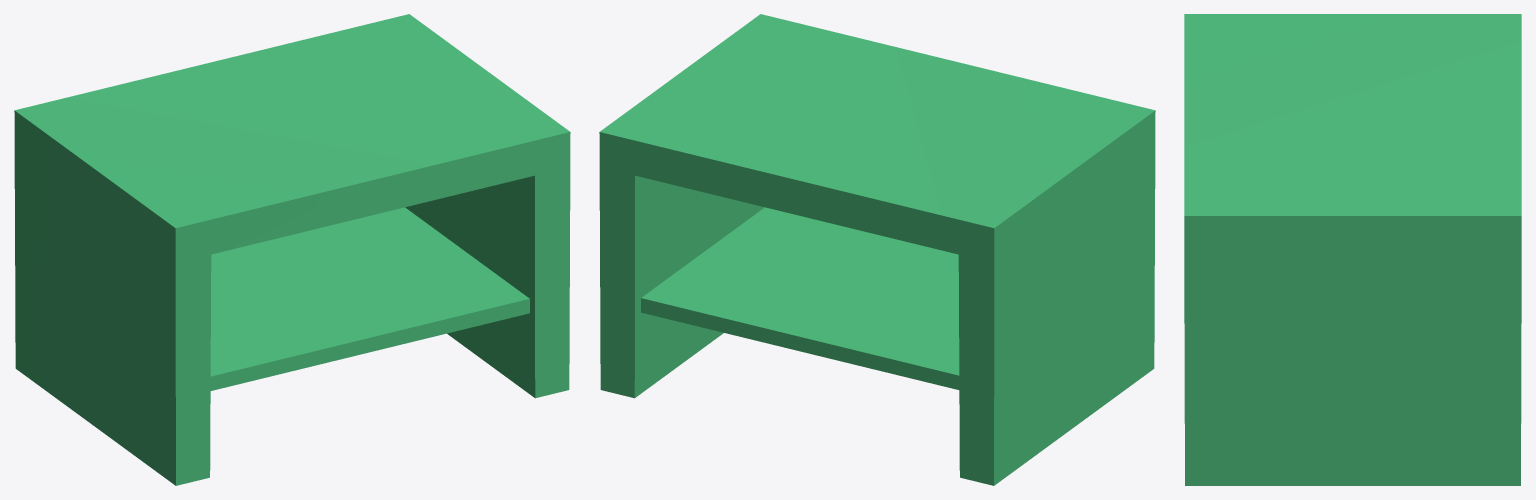
File: shelf_064.glb
The picture shows the model from 3 angles, left to right: view 1: azimuth 30°, elevation 25°; view 2: azimuth 150°, elevation 25°; view 3: azimuth 270°, elevation 25°; orthographic projection. The views are drawn at different scales.
Visible parts, largest first — view 1: shelf_064; view 2: shelf_064; view 3: shelf_064.
Boxes of the visible parts, x1,y1,x2,y2 form: shelf_064: [14, 14, 570, 485]; shelf_064: [599, 14, 1155, 485]; shelf_064: [1184, 14, 1521, 485].
Bounding box in the file's own units: 0.6707 × 0.419 × 0.4741.
Materials: 1 (1 with a texture image).
